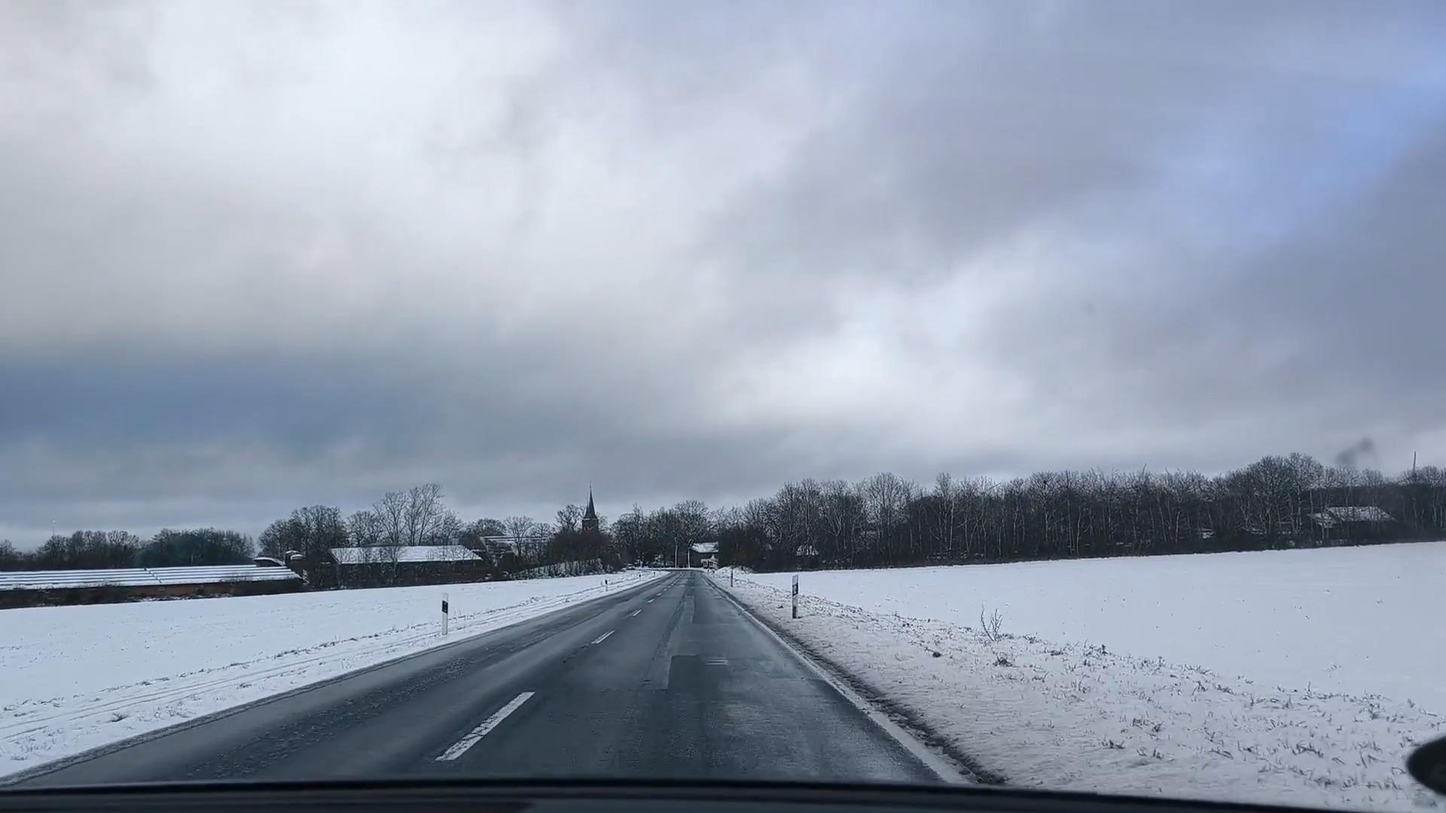Snow: (712, 542, 1445, 803), (0, 570, 669, 781)
wet: (0, 569, 964, 786)
